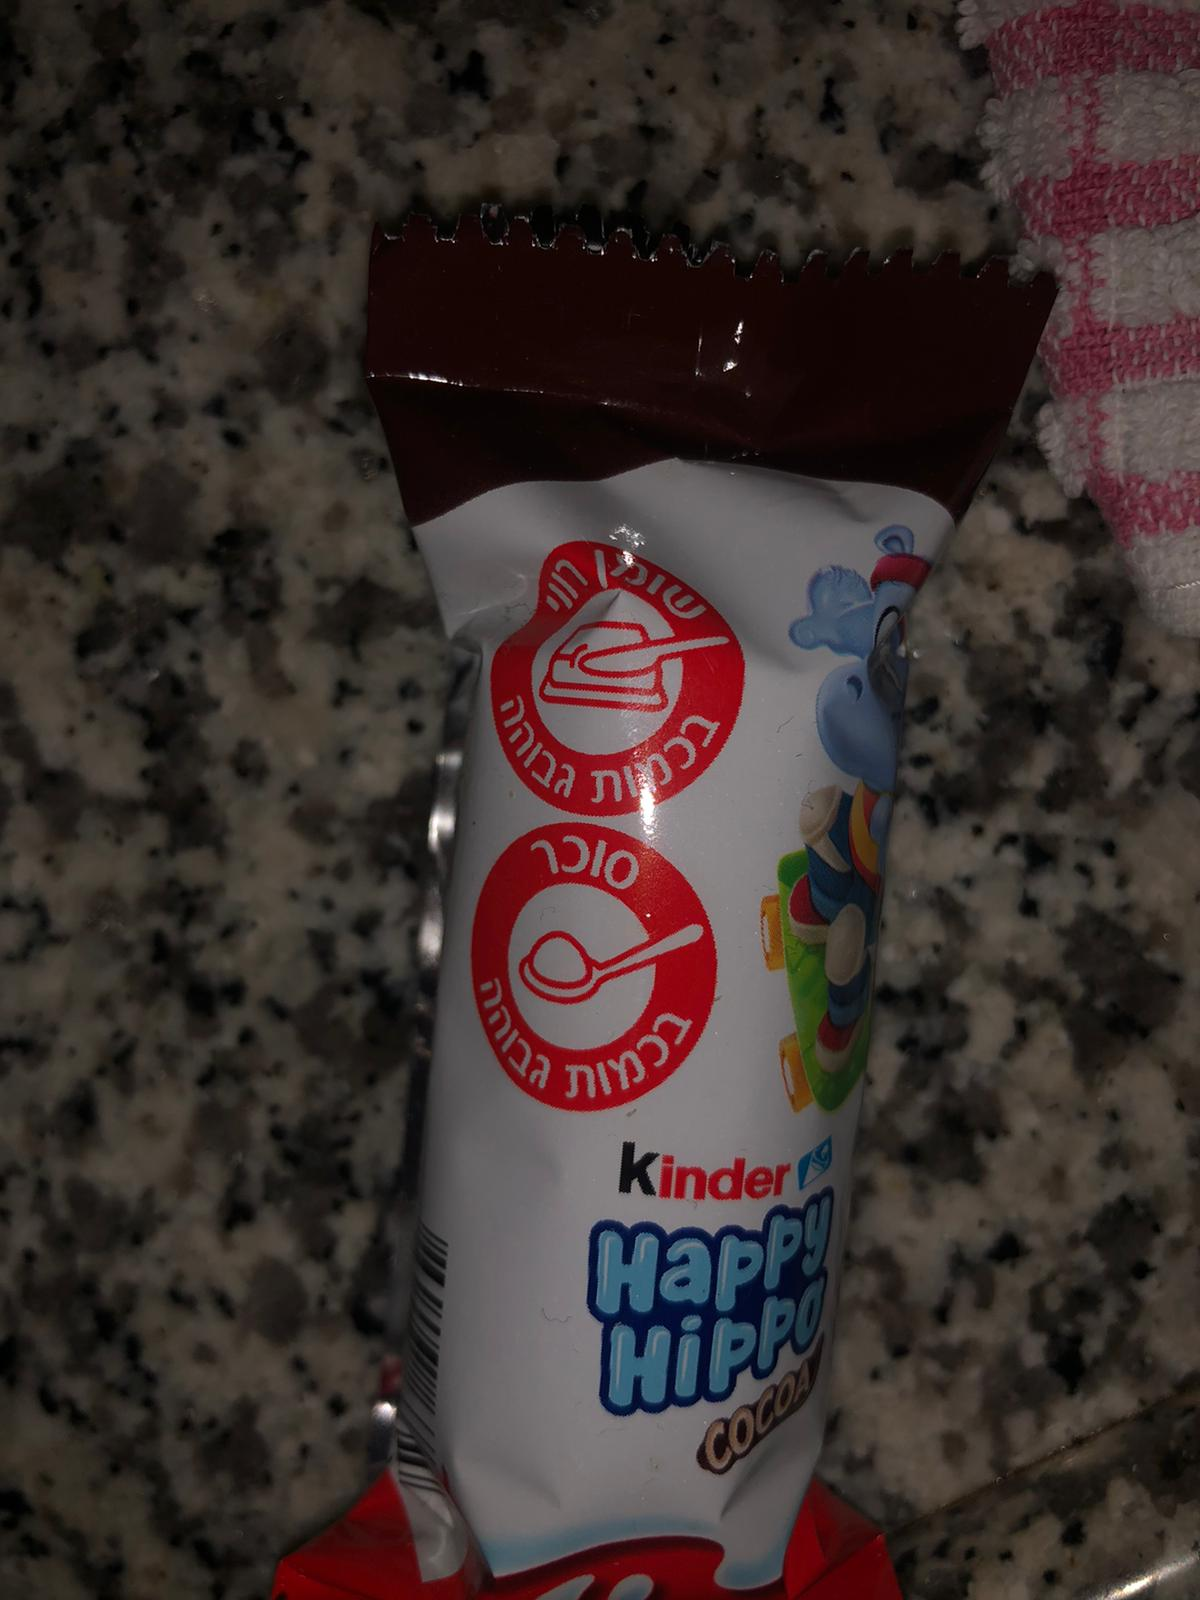fat: (492, 540, 747, 820)
sugar: (469, 818, 717, 1112)
